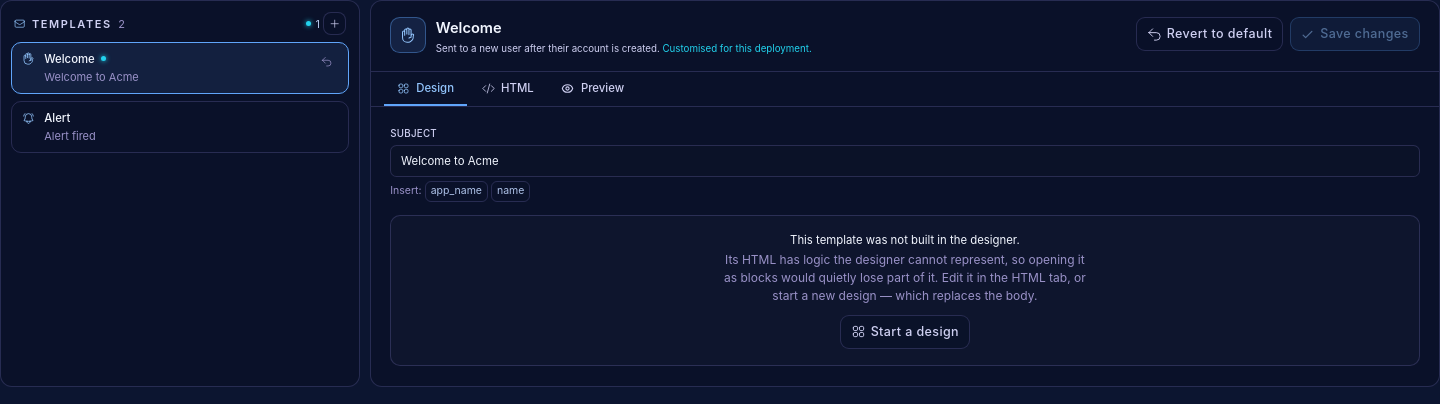
Test: editing one template › enables Revert on an overridden template and disables it on a default one
Expected: the field showing "Welcome to Acme" is shown, [390,145,1420,177]
Expected: the button "Revert to default" is enabled, [1136,17,1283,51]
Click the button "Alert Alert fired" at (70, 136), box [22,110,338,144]
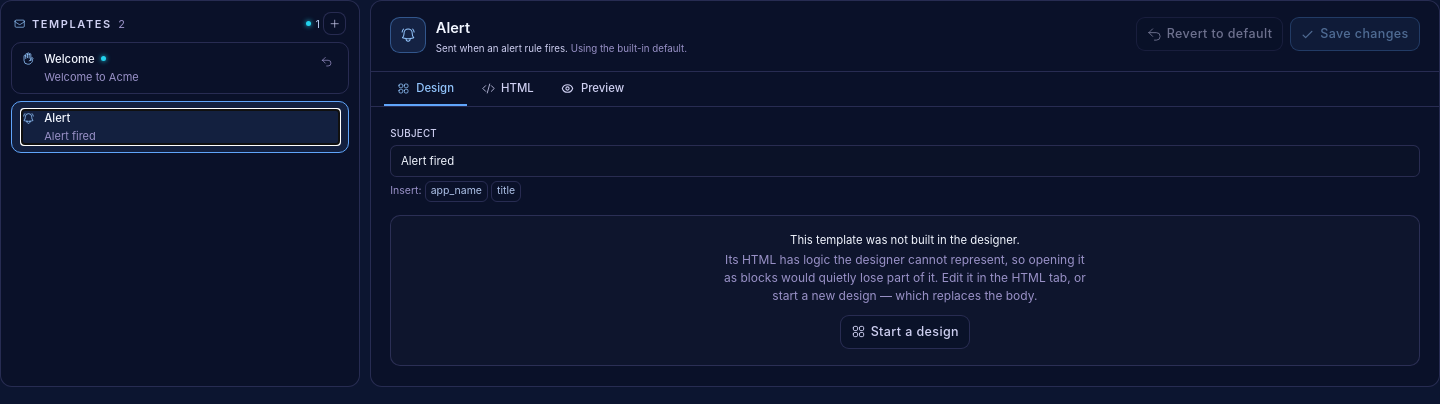
Now the field showing "Alert fired" is shown, box [390,145,1420,177]
Now the button "Revert to default" is disabled, box [1136,17,1283,51]
